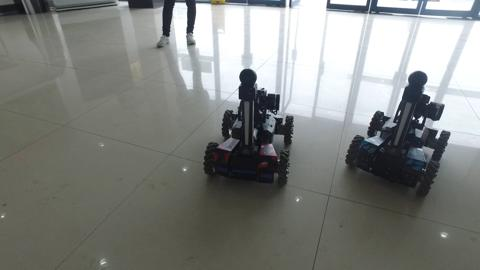chariot: (346, 64, 453, 203), (194, 66, 302, 189)
